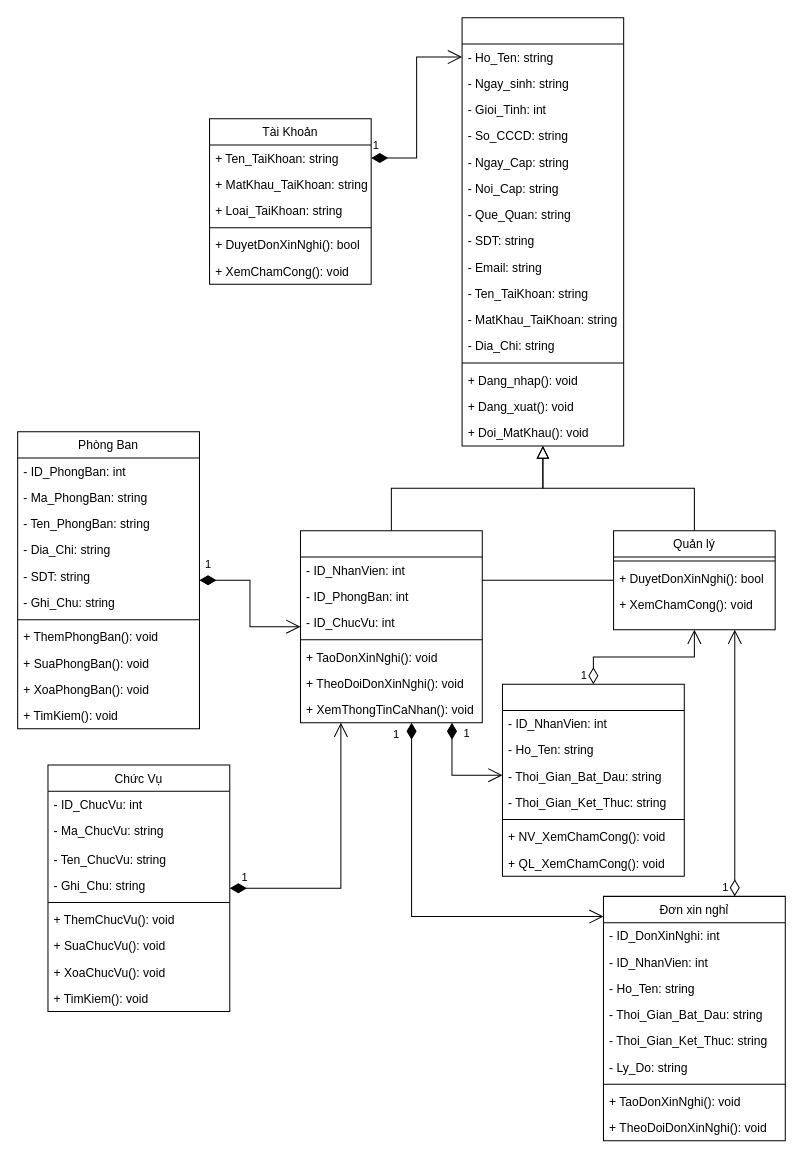
Some shapes in this 803 by 1162 pixel diagram are drawn without their labels. The shapes that lost their labels are listed below. From the top down, each one's box as (x1, y1, x2, y2) in pixels, then its label:
(461, 17, 624, 446): Người dùng
(299, 530, 482, 723): Nhân viên
(501, 683, 684, 876): Chấm công
